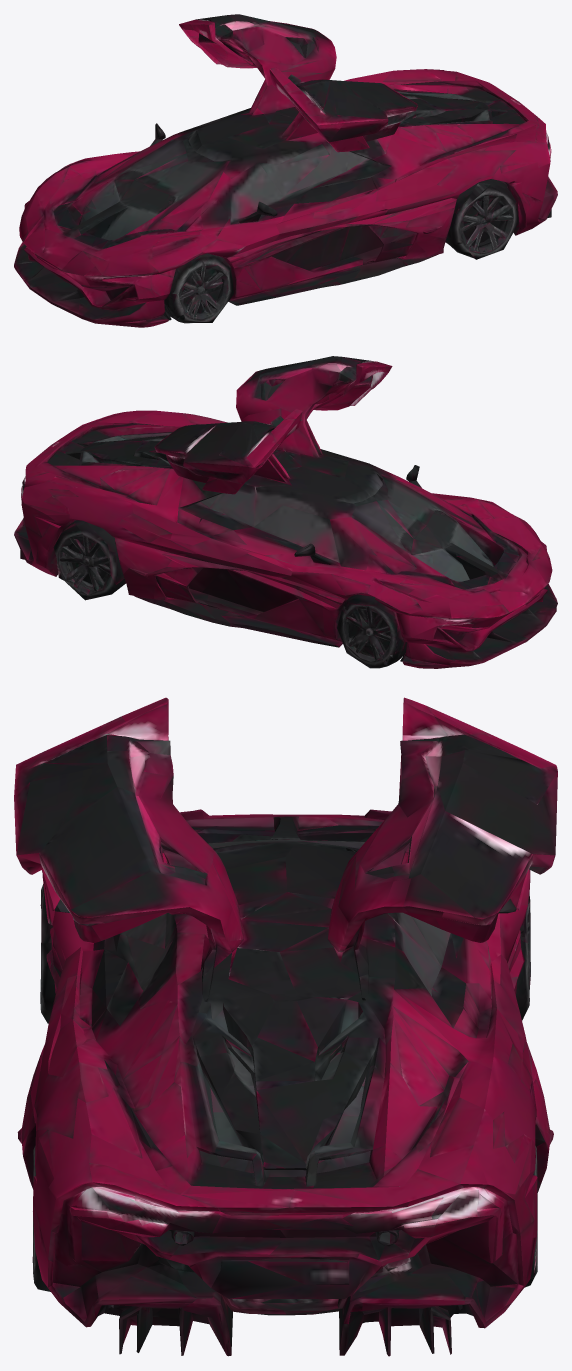
Rendered from mx_car_sports.glb.
3 renders of one model, top to bottom at view 1: azimuth 30°, elevation 25°; view 2: azimuth 150°, elevation 25°; view 3: azimuth 270°, elevation 25°, orthographic. The views are drawn at different scales.
Size of the model in its own units: 1.9 by 0.8007 by 0.9484.
1 material, 1 textured.
